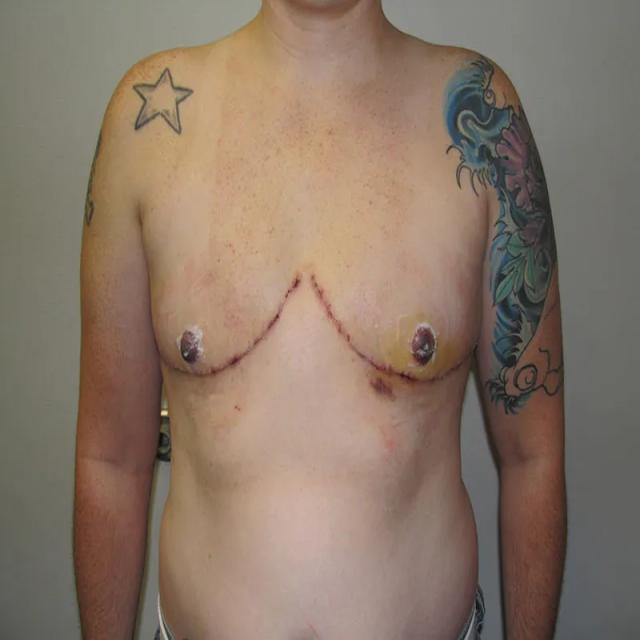Seno herido: (308, 214, 486, 408), (143, 214, 304, 399)
